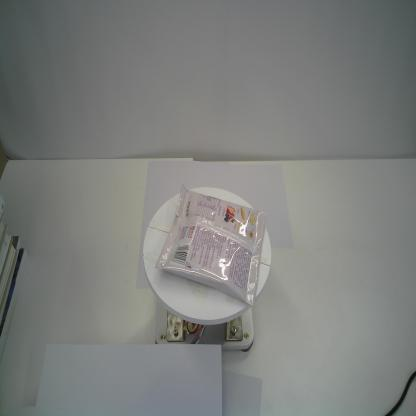Instant Drink: (155, 183, 267, 307)
